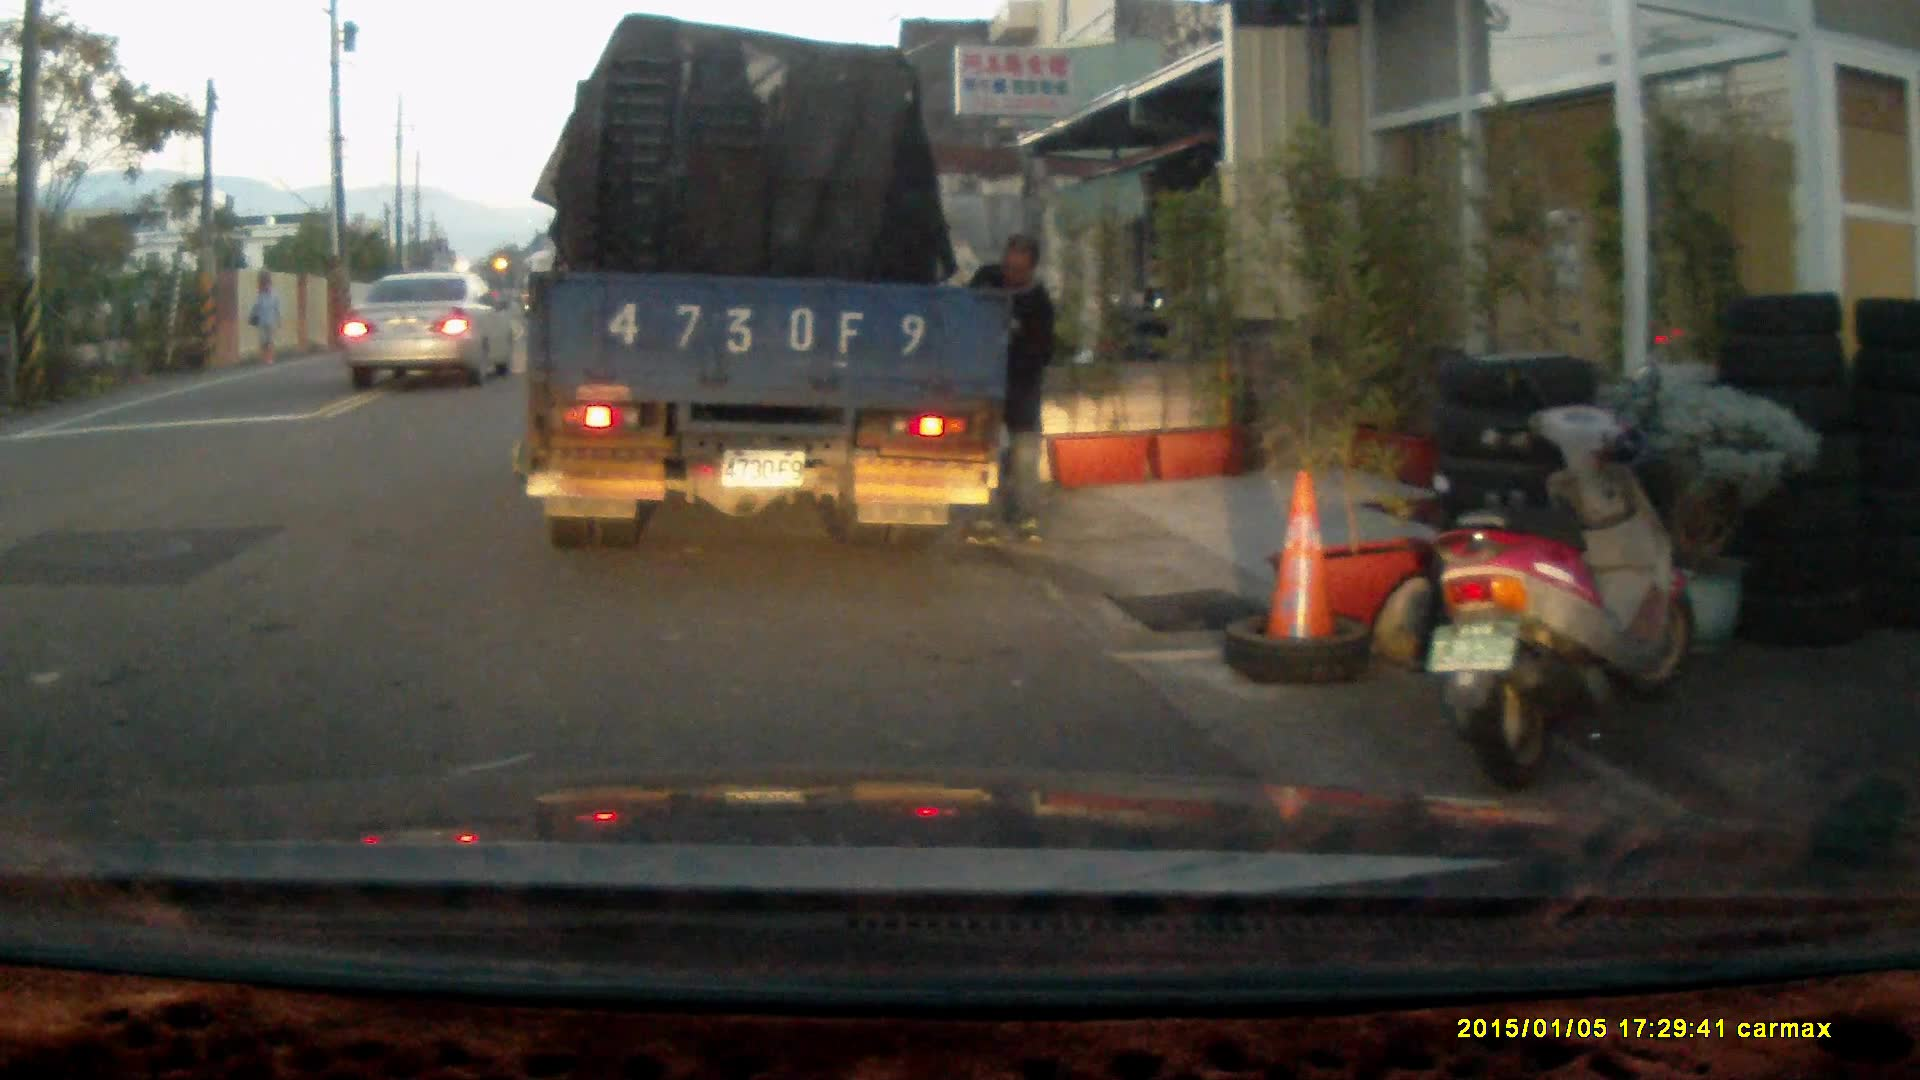pedestrian: (958, 229, 1053, 551), (241, 271, 281, 364)
vehicle: (519, 27, 998, 547), (342, 270, 522, 387)
